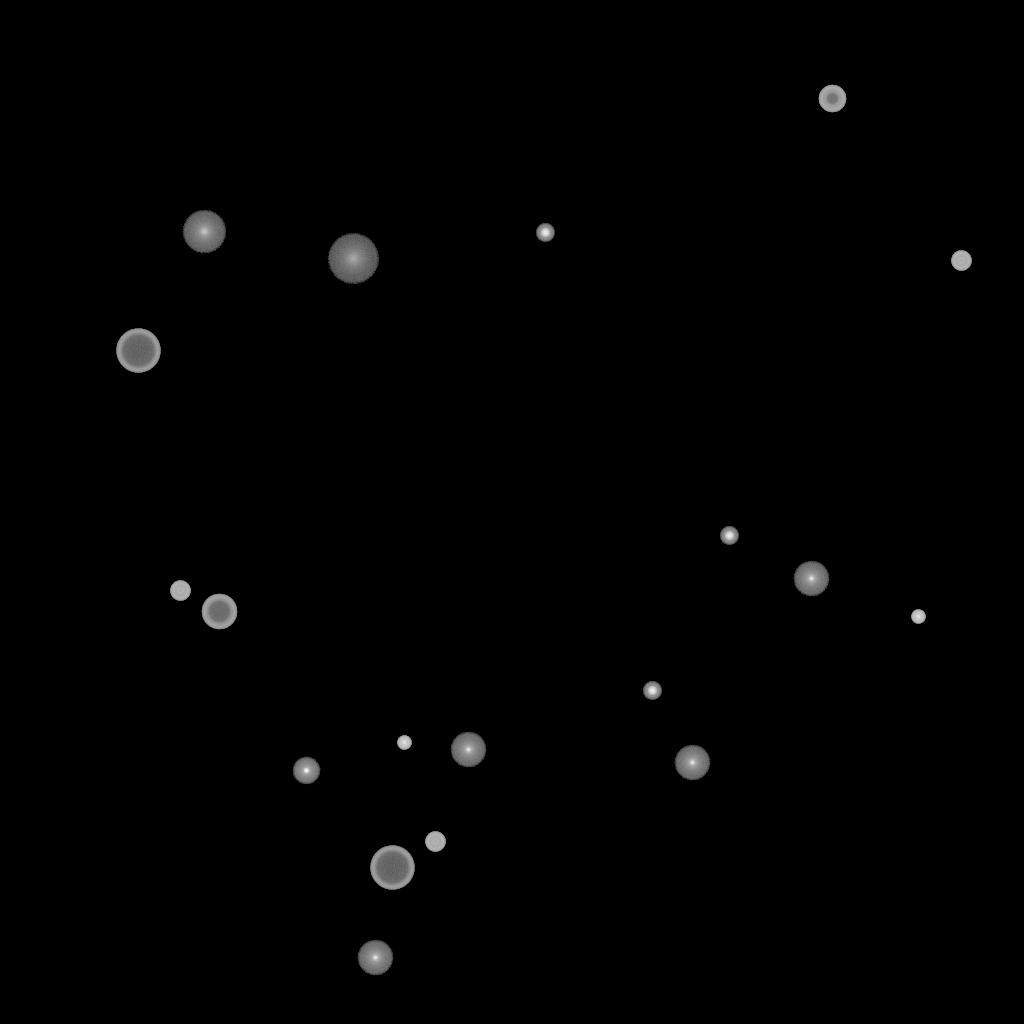depth:-10: (292, 757, 320, 785)
depth:-20: (536, 224, 554, 242), (720, 527, 738, 545), (643, 682, 661, 700)
depth:-30: (397, 736, 411, 750), (911, 610, 925, 624)
depth:-40: (425, 832, 445, 852), (170, 581, 190, 601), (951, 251, 971, 271)
depth:-50: (818, 85, 846, 113)
depth:-60: (201, 594, 237, 630)
depth:-70: (370, 846, 414, 890), (116, 329, 160, 373)
depth:0: (674, 745, 710, 781), (450, 732, 486, 768), (793, 561, 829, 597), (357, 940, 393, 976)
depth:10: (182, 210, 226, 254)
depth:20: (327, 234, 379, 284)
